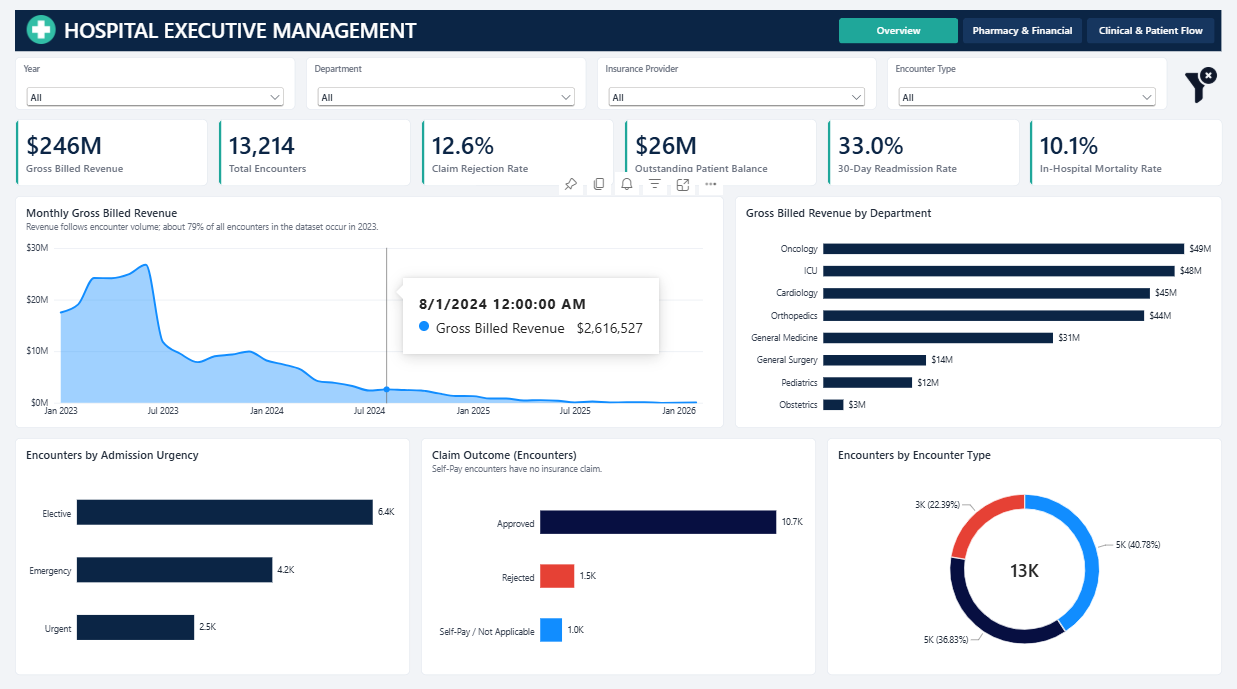

What the dashboard file says about the page in this screenshot:
{"tool":"powerbi","page":{"name":"Overview","canvas":[1920,1080],"ordinal":0},"visuals":[{"type":"textbox","box":[24,16,1872,64],"z":0},{"type":"image","box":[40.7,23.5,47.1,44.9],"z":1000},{"type":"textbox","box":[100,16,1200,64],"z":2000},{"type":"actionButton","box":[1302.6,28.7,185.1,39.7],"z":3000},{"type":"actionButton","box":[1494.4,28.7,185.1,39.7],"z":4000},{"type":"actionButton","box":[1686.1,28.7,198.4,39.7],"z":5000},{"type":"slicer","title":"Year","fields":{"Values":["Calendar.Year"]},"box":[24,88.2,435,82],"z":6000},{"type":"slicer","title":"Department","fields":{"Values":["vw_hospital_summary.department"]},"box":[475,88.2,435,82],"z":7000},{"type":"slicer","title":"Insurance Provider","fields":{"Values":["vw_hospital_summary.primary_insurance_provider"]},"box":[925.7,88.2,434.2,82],"z":8000},{"type":"slicer","title":"Encounter Type","fields":{"Values":["vw_hospital_summary.encounter_type"]},"box":[1377,88.2,435,82],"z":9000},{"type":"image","box":[1836,104,56,56],"z":10000},{"type":"cardVisual","fields":{"Data":["_Measures.Total_Revenue"]},"box":[24,184,298.7,104],"z":11000},{"type":"cardVisual","fields":{"Data":["_Measures.Total_Encounters"]},"box":[338.7,184,298.7,104],"z":12000},{"type":"cardVisual","fields":{"Data":["_Measures.Claim Rejection Rate %"]},"box":[653.3,184,298.7,104],"z":13000},{"type":"cardVisual","fields":{"Data":["_Measures.Outstanding Patient Balance"]},"box":[968,184,298.7,104],"z":14000},{"type":"cardVisual","fields":{"Data":["_Measures.Readmission_Rate_%"]},"box":[1282.7,184,298.7,104],"z":15000},{"type":"cardVisual","fields":{"Data":["_Measures.Mortality_Rate_%"]},"box":[1596.4,184.6,300.4,104.1],"z":16000},{"type":"lineChart","title":"Monthly Gross Billed Revenue","fields":{"Category":["Calendar.Month Start"],"Y":["_Measures.Total_Revenue"]},"box":[24,304,1100,360],"z":17000},{"type":"clusteredBarChart","title":"Gross Billed Revenue by Department","fields":{"Category":["vw_hospital_summary.department"],"Y":["_Measures.Total_Revenue"]},"box":[1140,304,756,360],"z":18000},{"type":"clusteredBarChart","title":"Encounters by Admission Urgency","fields":{"Category":["vw_hospital_summary.admission_urgency"],"Y":["_Measures.Total_Encounters"]},"box":[24,680,613.3,368],"z":19000},{"type":"clusteredBarChart","title":"Claim Outcome (Encounters)","fields":{"Category":["vw_hospital_summary.claim_status"],"Y":["_Measures.Total_Encounters"]},"box":[653.3,680,613.3,368],"z":20000},{"type":"donutChart","title":"Encounters by Encounter Type","fields":{"Category":["vw_hospital_summary.encounter_type"],"Y":["_Measures.Total_Encounters"]},"box":[1282.7,680,613.3,368],"z":21000}]}

Visuals, with their boxes in screenshot pixels (x1, y1, x2, y2), scaled from the page's 1920x1080 canvas onto the 1237x689 screenshot:
textbox: x1=15 y1=10 x2=1222 y2=51
image: x1=26 y1=15 x2=57 y2=44
textbox: x1=64 y1=10 x2=838 y2=51
actionButton: x1=839 y1=18 x2=958 y2=44
actionButton: x1=963 y1=18 x2=1082 y2=44
actionButton: x1=1086 y1=18 x2=1214 y2=44
"Year" slicer: x1=15 y1=56 x2=296 y2=109
"Department" slicer: x1=306 y1=56 x2=586 y2=109
"Insurance Provider" slicer: x1=596 y1=56 x2=876 y2=109
"Encounter Type" slicer: x1=887 y1=56 x2=1167 y2=109
image: x1=1183 y1=66 x2=1219 y2=102
cardVisual - _Measures.Total_Revenue: x1=15 y1=117 x2=208 y2=184
cardVisual - _Measures.Total_Encounters: x1=218 y1=117 x2=411 y2=184
cardVisual - _Measures.Claim Rejection Rate %: x1=421 y1=117 x2=613 y2=184
cardVisual - _Measures.Outstanding Patient Balance: x1=624 y1=117 x2=816 y2=184
cardVisual - _Measures.Readmission_Rate_%: x1=826 y1=117 x2=1019 y2=184
cardVisual - _Measures.Mortality_Rate_%: x1=1029 y1=118 x2=1222 y2=184
"Monthly Gross Billed Revenue" lineChart: x1=15 y1=194 x2=724 y2=424
"Gross Billed Revenue by Department" clusteredBarChart: x1=734 y1=194 x2=1222 y2=424
"Encounters by Admission Urgency" clusteredBarChart: x1=15 y1=434 x2=411 y2=669
"Claim Outcome (Encounters)" clusteredBarChart: x1=421 y1=434 x2=816 y2=669
"Encounters by Encounter Type" donutChart: x1=826 y1=434 x2=1222 y2=669
